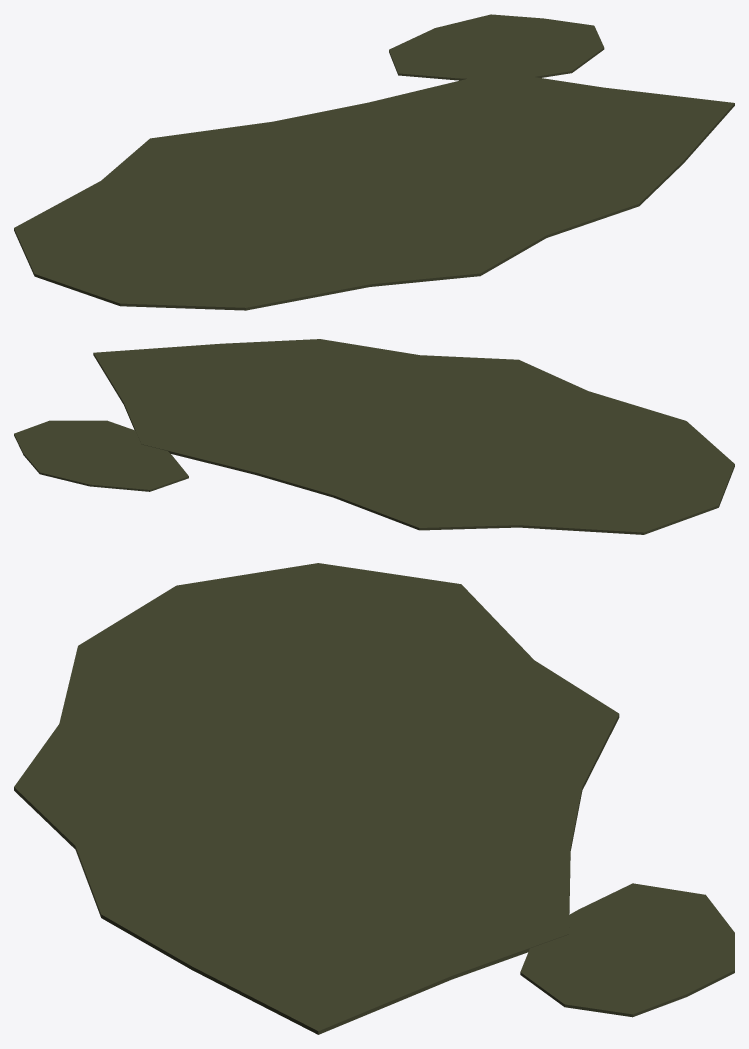
File: SM_VKI_Overlay_Sludge.fbx
3 views of the same model, one above another, from view 1: azimuth 30°, elevation 25°; view 2: azimuth 150°, elevation 25°; view 3: azimuth 270°, elevation 25° (orthographic). The views are drawn at different scales.
Parts seen in each view (by area): view 1: SM_VKI_Overlay_Sludge.001; view 2: SM_VKI_Overlay_Sludge.001; view 3: SM_VKI_Overlay_Sludge.001.
Boxes of the visible parts, left/top/right/bottom form: SM_VKI_Overlay_Sludge.001: left=14, top=14, right=734, bottom=310; SM_VKI_Overlay_Sludge.001: left=14, top=339, right=734, bottom=534; SM_VKI_Overlay_Sludge.001: left=14, top=563, right=734, bottom=1034.
Bounding box in the file's own units: 1.2 × 0.0044 × 0.7797.
